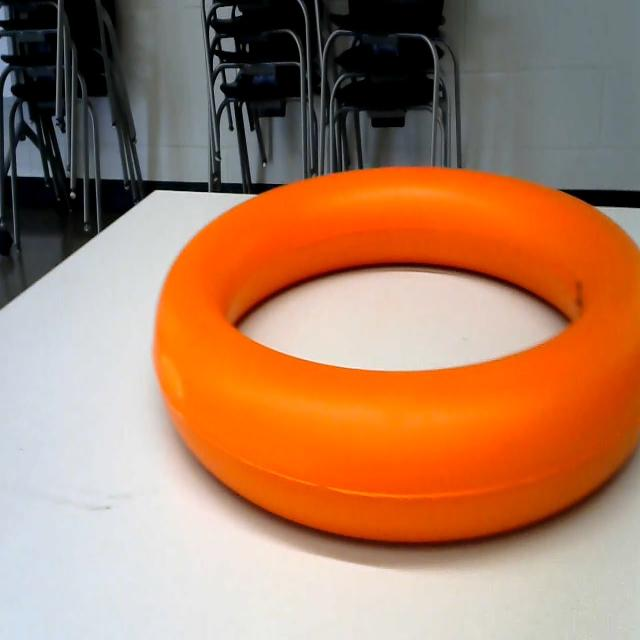note: (138, 142, 640, 591)
